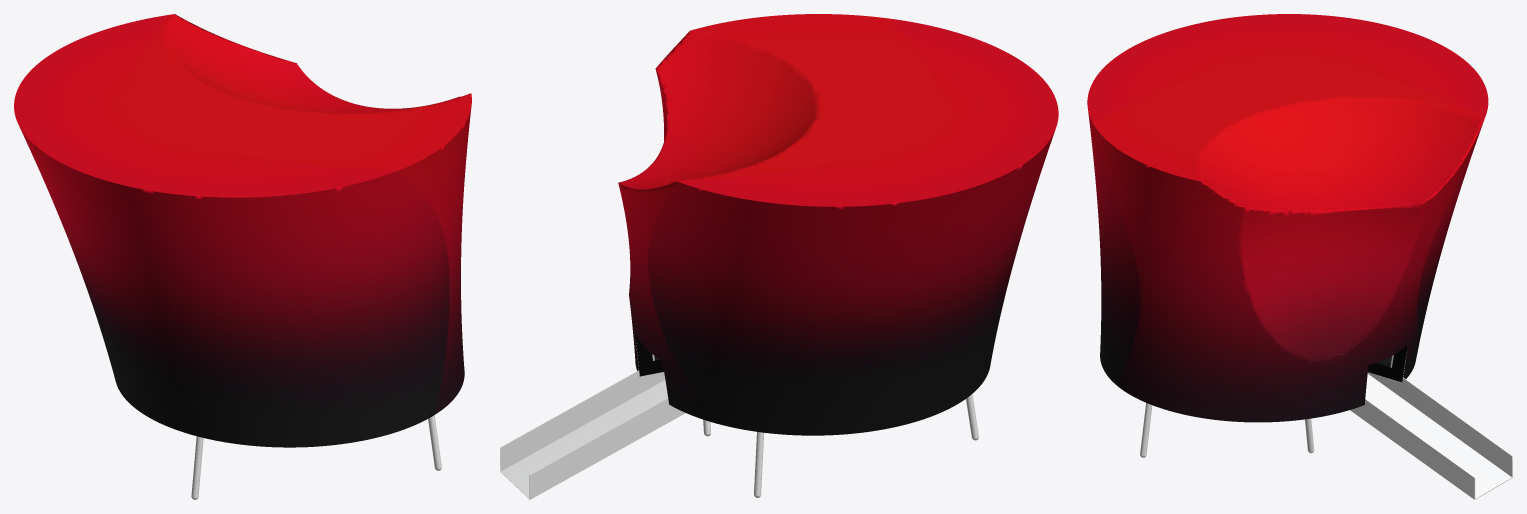
3 views of the same model, side by side, from view 1: azimuth 30°, elevation 25°; view 2: azimuth 150°, elevation 25°; view 3: azimuth 270°, elevation 25° (orthographic). The views are drawn at different scales.
Visible parts, largest first — view 1: Solids, Legs; view 2: Solids, Ramp, Legs, Frames; view 3: Solids, Ramp, Frames, Legs.
Part boxes in pixels (box(x1,y1,x2,y2)): Solids: box(14, 14, 471, 447); Legs: box(191, 415, 441, 499); Solids: box(618, 14, 1058, 435); Ramp: box(500, 370, 685, 499); Legs: box(703, 394, 978, 497); Frames: box(635, 332, 663, 376); Solids: box(1087, 14, 1488, 422); Ramp: box(1350, 372, 1512, 499); Frames: box(1368, 344, 1407, 382); Legs: box(1140, 403, 1314, 457).
Size of the model in its own units: 27.04 by 20.82 by 26.34.
3 materials, 3 textured.
